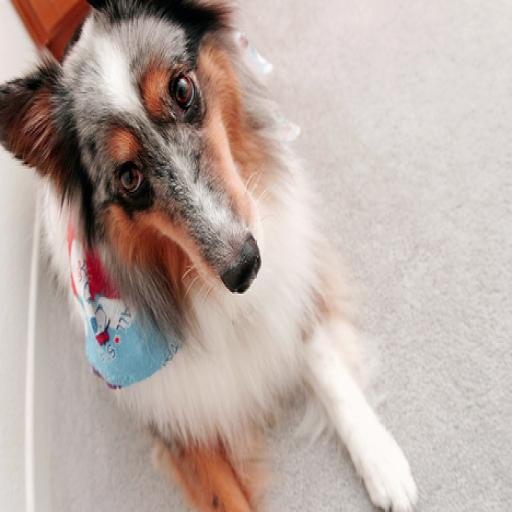dog_face: (0, 0, 265, 294)
